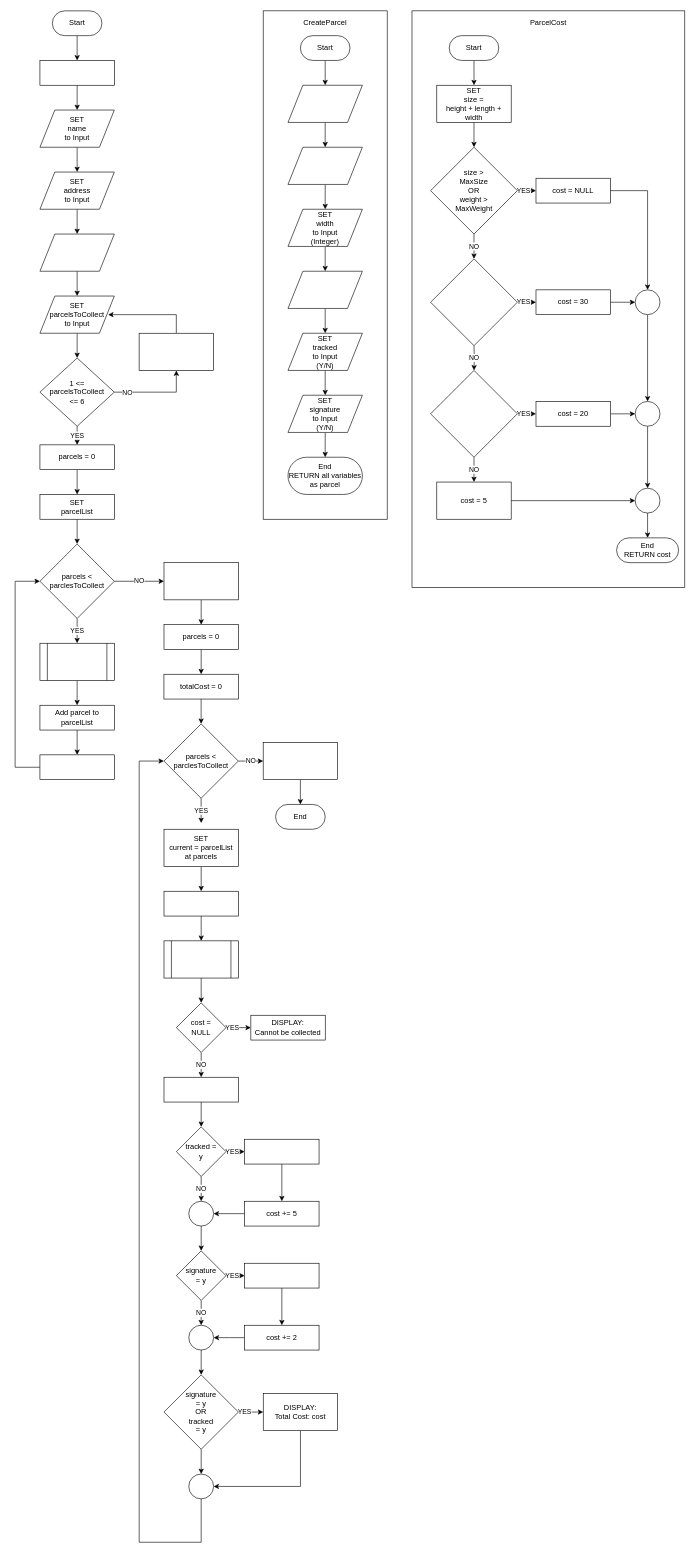
The diagram is 696 pixels wide and 1558 high, and some of its shapes have lost their labels. The shapes that lost their labels are listed below. From the top down, each one's centre as x and y in pixels, then its label:
At (76,72): "MaxSize = 450 MaxWeight = 30".
At (324,103): "SET height to Input (Integer)".
At (324,165): "SET length to Input (Integer)".
At (76,252): "SET phoneNumber to Input".
At (324,289): "SET weight to Input (Integer)".
At (473,302): "size > 150 OR weight > 15".
At (176,351): "DISPLAY Invalid input. Not between 1 and 6".
At (473,413): "size > 95 OR weight > 2".
At (200,581): "DISPLAY name, address, phoneNumber".
At (76,661): "SET parcel = CreateParcel".
At (76,767): "parcels++".
At (300,761): "DISPLAY: Total Cost: totalCost".
At (200,903): "DISPLAY Parcel: parcels + 1".
At (200,959): "SET cost = parcelCost of current".
At (200,1089): "DISPLAY: cost".
At (281,1151): "DISPLAY: Tracking: + £5.00".
At (281,1275): "DISPLAY: Signature: + £2.00".
